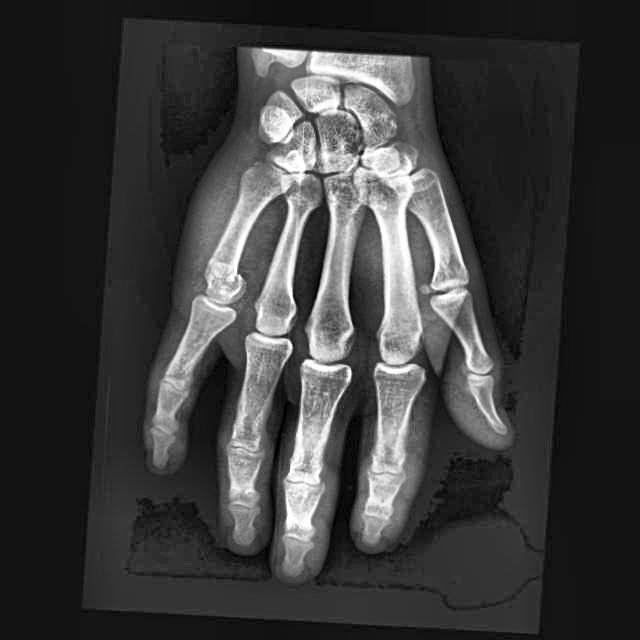Comminuted: (192, 250, 248, 307)
